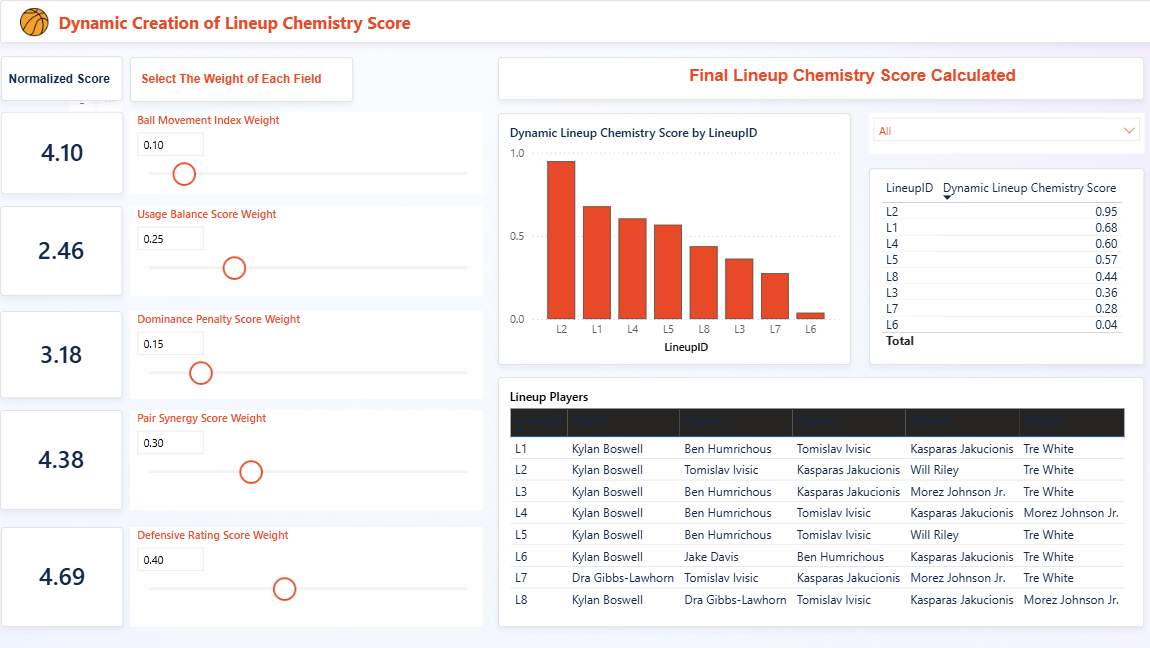

This screenshot's page, from the dashboard's own definition file:
{"tool":"powerbi","page":{"name":"Dynamic Score Calculation","canvas":[1280,720],"ordinal":2},"visuals":[{"type":"slicer","fields":{"Values":["Ball Movement Index Weight.Ball Movement Index Weight"]},"box":[144.5,124.8,392.3,90.7],"z":0},{"type":"slicer","fields":{"Values":["Usage Balance Score Weight 2.Usage Balance Score Weight"]},"box":[144.5,228.9,392.3,99.7],"z":1000},{"type":"slicer","fields":{"Values":["Pair Synergy Score Weight.Pair Synergy Score Weight"]},"box":[144.5,455.2,392.3,111.3],"z":2000},{"type":"slicer","fields":{"Values":["Defensive Rating Score Weight.Defensive Rating Score Weight"]},"box":[144.4,585.6,392.2,111.1],"z":3000},{"type":"slicer","fields":{"Values":["Dominance Penalty Score Weight.Dominance Penalty Score Weight"]},"box":[144.5,345.6,392.3,97],"z":4000},{"type":"tableEx","fields":{"Values":["Lineup_Chemistry_Scores Final.LineupID","Lineup_Chemistry_Scores Final.Dynamic Lineup Chemistry Score"]},"box":[965,187,306,219],"z":5000},{"type":"card","fields":{"Values":["Lineup_Chemistry_Scores Final.Ball_Movement_Index Normalized"]},"box":[1.1,124.4,135.6,91.1],"z":6000},{"type":"card","fields":{"Values":["Lineup_Chemistry_Scores Final.Defensive_Rating Normalized"]},"box":[1.1,585.6,135.6,111.1],"z":7000},{"type":"card","fields":{"Values":["Lineup_Chemistry_Scores Final.Usage_Balance_Score Normalized"]},"box":[0,228.9,135.6,99.7],"z":8000},{"type":"card","fields":{"Values":["Lineup_Chemistry_Scores Final.Pair_Synergy_Score Normalized"]},"box":[0,455.6,135.6,111.1],"z":9000},{"type":"card","fields":{"Values":["Lineup_Chemistry_Scores Final.Dominance_Penalty Normalized"]},"box":[0,345.6,135.6,96.7],"z":10000},{"type":"tableEx","title":"Lineup Players","fields":{"Values":["Cleaned_Starting_Lineups.LineupID","Cleaned_Starting_Lineups.Player1","Cleaned_Starting_Lineups.Player2","Cleaned_Starting_Lineups.Player3","Cleaned_Starting_Lineups.Player4","Cleaned_Starting_Lineups.Player5"]},"box":[553.3,418.9,717.8,277.8],"z":11000},{"type":"columnChart","fields":{"Category":["Lineup_Chemistry_Scores Final.LineupID"],"Y":["Lineup_Chemistry_Scores Final.Dynamic Lineup Chemistry Score"]},"box":[553.3,125.6,392.2,280],"z":12000},{"type":"shape","box":[0,0,1280,48],"z":13000},{"type":"textbox","box":[60.1,6.3,423.7,39.5],"z":14000},{"type":"shape","box":[1.2,62.7,135.5,50.3],"z":15000},{"type":"shape","box":[144.7,62.9,247.6,50],"z":16000},{"type":"textbox","box":[3.9,73.6,128.6,28.6],"z":17000},{"type":"textbox","box":[151,73.8,232.8,28.5],"z":18000},{"type":"shape","box":[553,63,718,48],"z":19000},{"type":"textbox","box":[757,68,377,39],"z":20000},{"type":"slicer","fields":{"Values":["Cleaned_Starting_Lineups.LineupID"]},"box":[965,125,306,45],"z":21000},{"type":"image","box":[15,0,45,48],"z":22000}]}

Visuals, with their boxes in screenshot pixels (x1, y1, x2, y2), scaled from the page's 1280x720 canvas onto the 1150x648 screenshot:
slicer - Ball Movement Index Weight.Ball Movement Index Weight: {"left": 130, "top": 112, "right": 482, "bottom": 194}
slicer - Usage Balance Score Weight 2.Usage Balance Score Weight: {"left": 130, "top": 206, "right": 482, "bottom": 296}
slicer - Pair Synergy Score Weight.Pair Synergy Score Weight: {"left": 130, "top": 410, "right": 482, "bottom": 510}
slicer - Defensive Rating Score Weight.Defensive Rating Score Weight: {"left": 130, "top": 527, "right": 482, "bottom": 627}
slicer - Dominance Penalty Score Weight.Dominance Penalty Score Weight: {"left": 130, "top": 311, "right": 482, "bottom": 398}
tableEx - Lineup_Chemistry_Scores Final.LineupID x Lineup_Chemistry_Scores Final.Dynamic Lineup Chemistry Score: {"left": 867, "top": 168, "right": 1142, "bottom": 365}
card - Lineup_Chemistry_Scores Final.Ball_Movement_Index Normalized: {"left": 1, "top": 112, "right": 123, "bottom": 194}
card - Lineup_Chemistry_Scores Final.Defensive_Rating Normalized: {"left": 1, "top": 527, "right": 123, "bottom": 627}
card - Lineup_Chemistry_Scores Final.Usage_Balance_Score Normalized: {"left": 0, "top": 206, "right": 122, "bottom": 296}
card - Lineup_Chemistry_Scores Final.Pair_Synergy_Score Normalized: {"left": 0, "top": 410, "right": 122, "bottom": 510}
card - Lineup_Chemistry_Scores Final.Dominance_Penalty Normalized: {"left": 0, "top": 311, "right": 122, "bottom": 398}
"Lineup Players" tableEx: {"left": 497, "top": 377, "right": 1142, "bottom": 627}
columnChart - Lineup_Chemistry_Scores Final.LineupID x Lineup_Chemistry_Scores Final.Dynamic Lineup Chemistry Score: {"left": 497, "top": 113, "right": 849, "bottom": 365}
shape: {"left": 0, "top": 0, "right": 1149, "bottom": 43}
textbox: {"left": 54, "top": 6, "right": 435, "bottom": 41}
shape: {"left": 1, "top": 56, "right": 123, "bottom": 102}
shape: {"left": 130, "top": 57, "right": 352, "bottom": 102}
textbox: {"left": 4, "top": 66, "right": 119, "bottom": 92}
textbox: {"left": 136, "top": 66, "right": 345, "bottom": 92}
shape: {"left": 497, "top": 57, "right": 1142, "bottom": 100}
textbox: {"left": 680, "top": 61, "right": 1019, "bottom": 96}
slicer - Cleaned_Starting_Lineups.LineupID: {"left": 867, "top": 112, "right": 1142, "bottom": 153}
image: {"left": 13, "top": 0, "right": 54, "bottom": 43}
